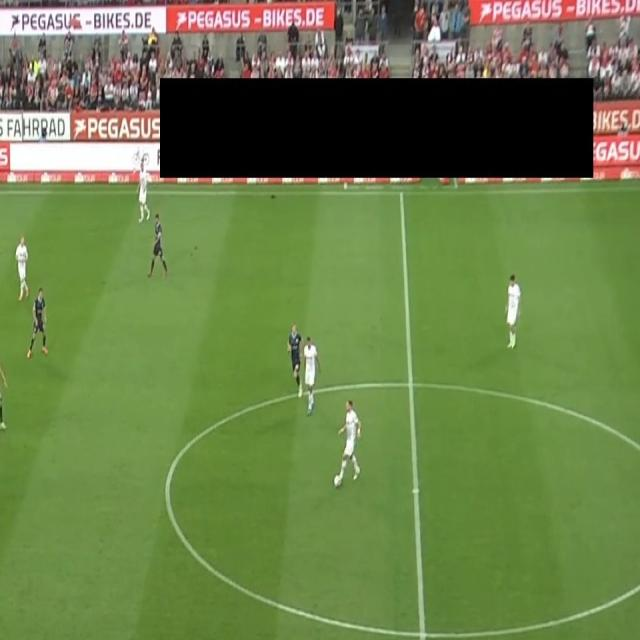ball: (333, 473, 341, 490)
